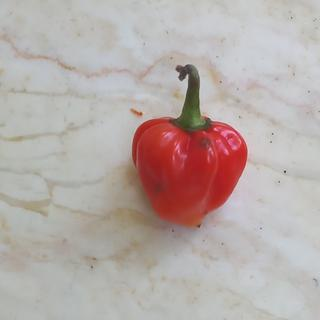Grade-B: (121, 109, 252, 229)
